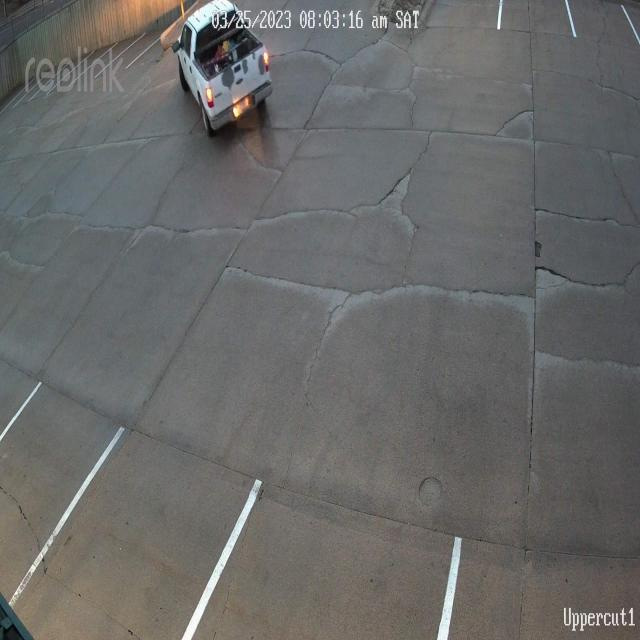Car: (174, 4, 274, 136)
Empty-slot: (1, 431, 256, 640), (178, 482, 466, 640), (2, 373, 122, 615), (445, 529, 640, 640), (574, 0, 640, 49), (405, 0, 508, 31), (500, 0, 575, 40)
